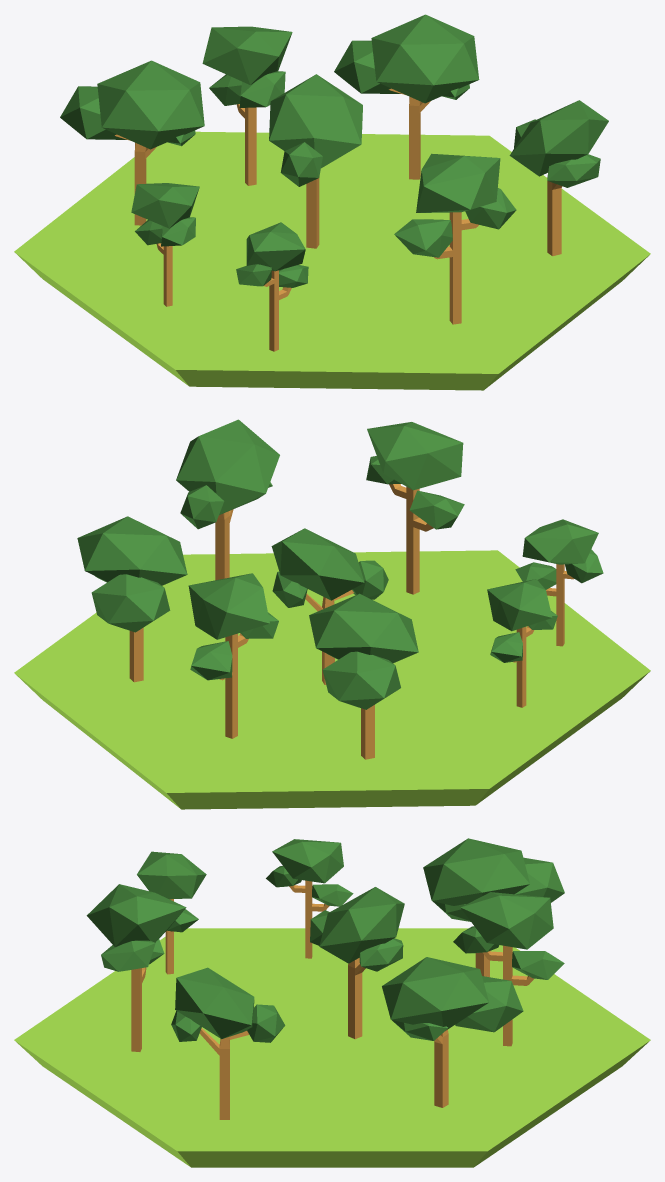
File: G_F_leaf.fbx
3 views of the same model, one above another, from view 1: azimuth 30°, elevation 25°; view 2: azimuth 150°, elevation 25°; view 3: azimuth 270°, elevation 25° (orthographic). The views are drawn at different scales.
Visible parts, largest first — view 1: Grande tuille_foret.003; view 2: Grande tuille_foret.003; view 3: Grande tuille_foret.003.
Part boxes in pixels (x1=…): Grande tuille_foret.003: x1=14, y1=14, x2=650, y2=390; Grande tuille_foret.003: x1=14, y1=419, x2=650, y2=809; Grande tuille_foret.003: x1=14, y1=838, x2=650, y2=1167.
Size of the model in its own units: 3165 by 1217 by 3822.
